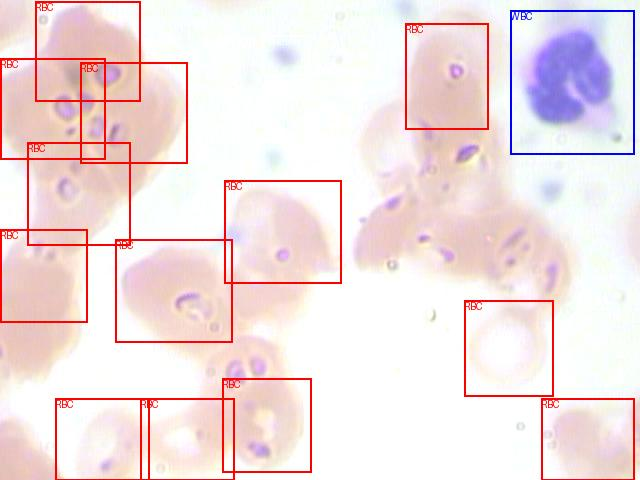Platelets: (262, 35, 309, 75)
RBC: (224, 180, 341, 283), (115, 239, 232, 342), (80, 62, 187, 163), (27, 142, 130, 245), (0, 58, 105, 159), (35, 1, 140, 101), (405, 23, 488, 129), (464, 300, 553, 396), (222, 378, 311, 472), (0, 229, 87, 322), (55, 398, 149, 480), (140, 398, 234, 480), (541, 398, 634, 480)
WBC: (510, 10, 634, 154)
